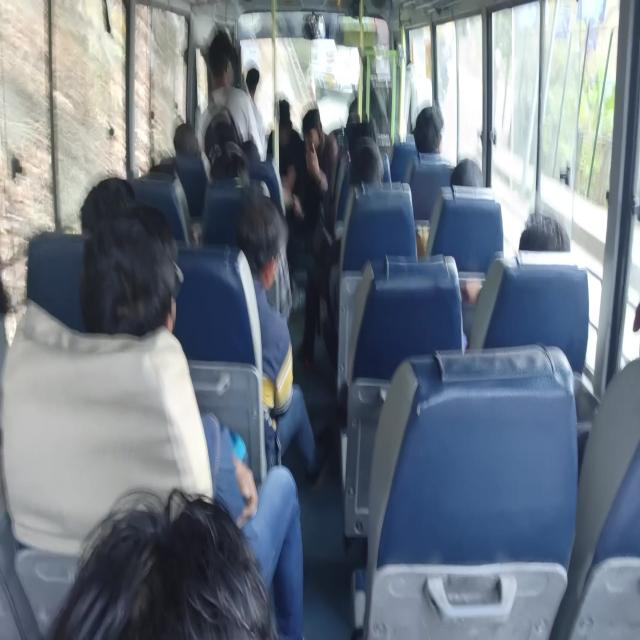person: (72, 510, 326, 640), (90, 226, 180, 336), (587, 266, 640, 430), (0, 285, 47, 405), (238, 198, 294, 260), (520, 203, 564, 262), (82, 181, 136, 225), (410, 108, 449, 157), (449, 161, 484, 213), (212, 54, 246, 106), (172, 122, 211, 158), (355, 148, 386, 193), (221, 160, 259, 194), (275, 100, 299, 149), (343, 112, 377, 141), (306, 112, 326, 161), (144, 142, 170, 178), (243, 146, 265, 175), (250, 75, 264, 106)
